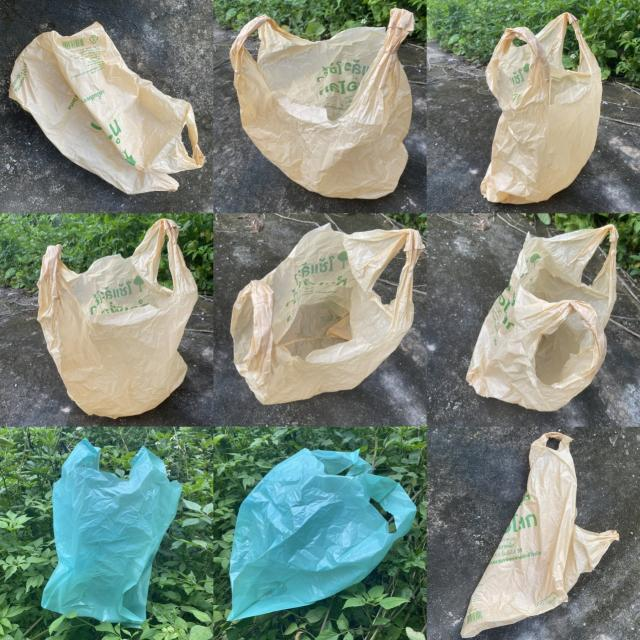Single-layer Plastic: (230, 9, 414, 198), (230, 224, 424, 403), (9, 22, 205, 194), (461, 432, 619, 638), (228, 449, 416, 620), (38, 219, 198, 418), (466, 225, 618, 411), (41, 439, 181, 627), (481, 12, 602, 203)
